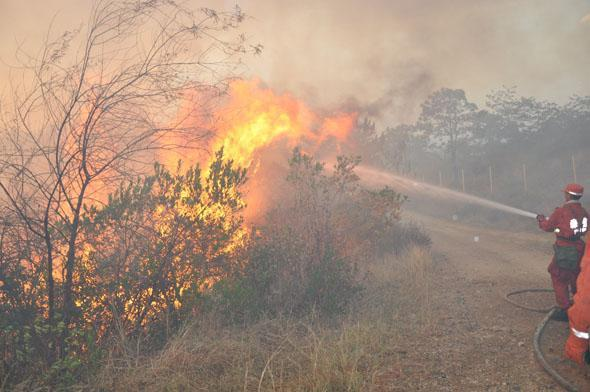fire: (47, 87, 322, 310)
